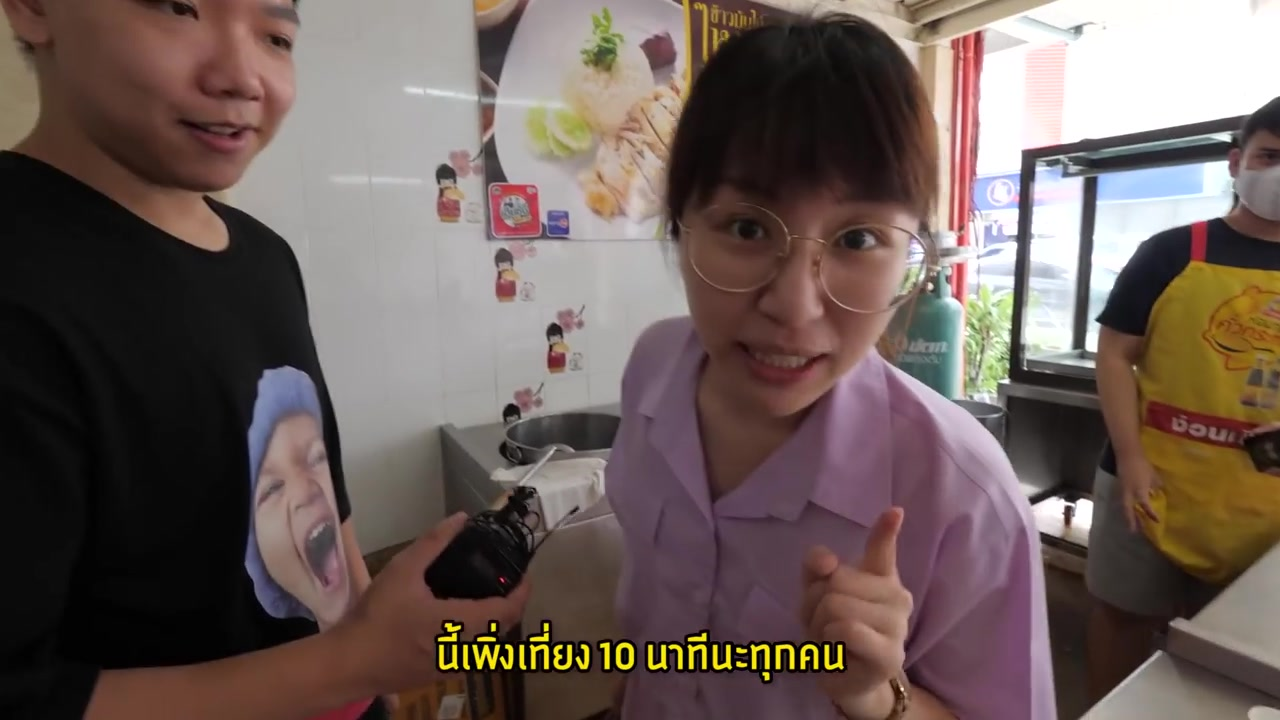text-label: (433, 617, 847, 687)
